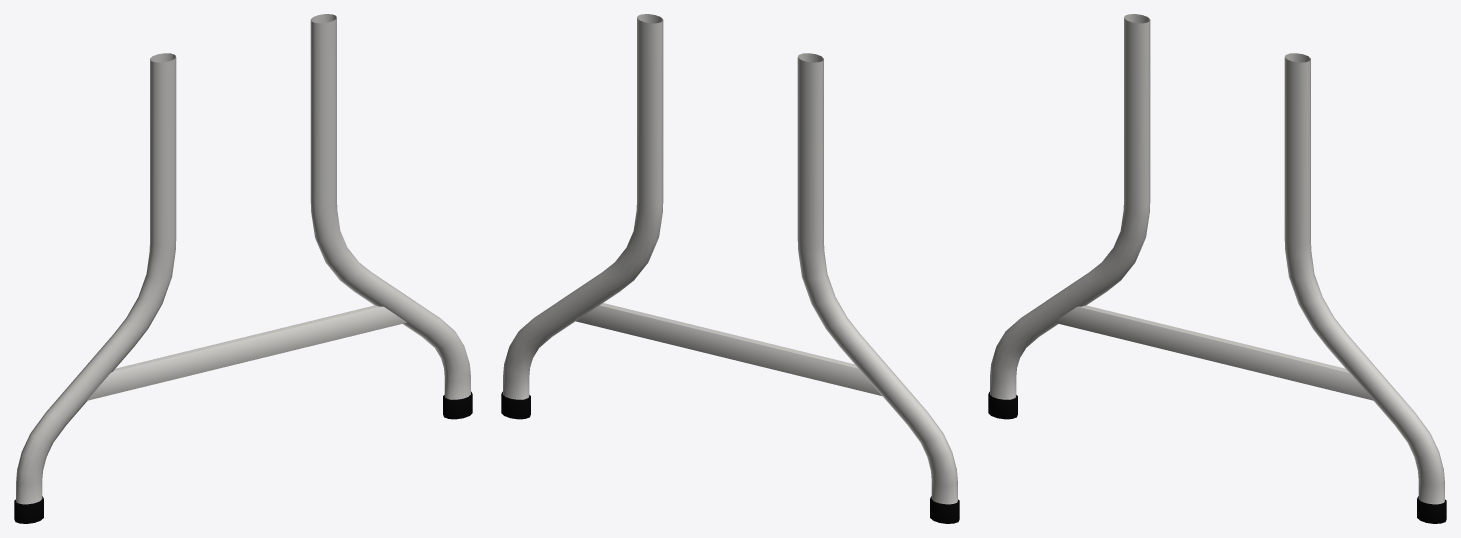
The model's file is pata2.obj.
3 views of the same model, side by side, from view 1: azimuth 30°, elevation 25°; view 2: azimuth 150°, elevation 25°; view 3: azimuth 330°, elevation 25° (orthographic).
Parts seen in each view (by area): view 1: Pata2; view 2: Pata2; view 3: Pata2.
Boxes of the visible parts, left/top/right/bottom form: Pata2: left=14, top=14, right=472, bottom=523; Pata2: left=501, top=14, right=959, bottom=523; Pata2: left=988, top=14, right=1446, bottom=523.
Bounding box in the file's own units: 1.24 × 1.11 × 0.0541.
Materials: 1 (1 with a texture image).
